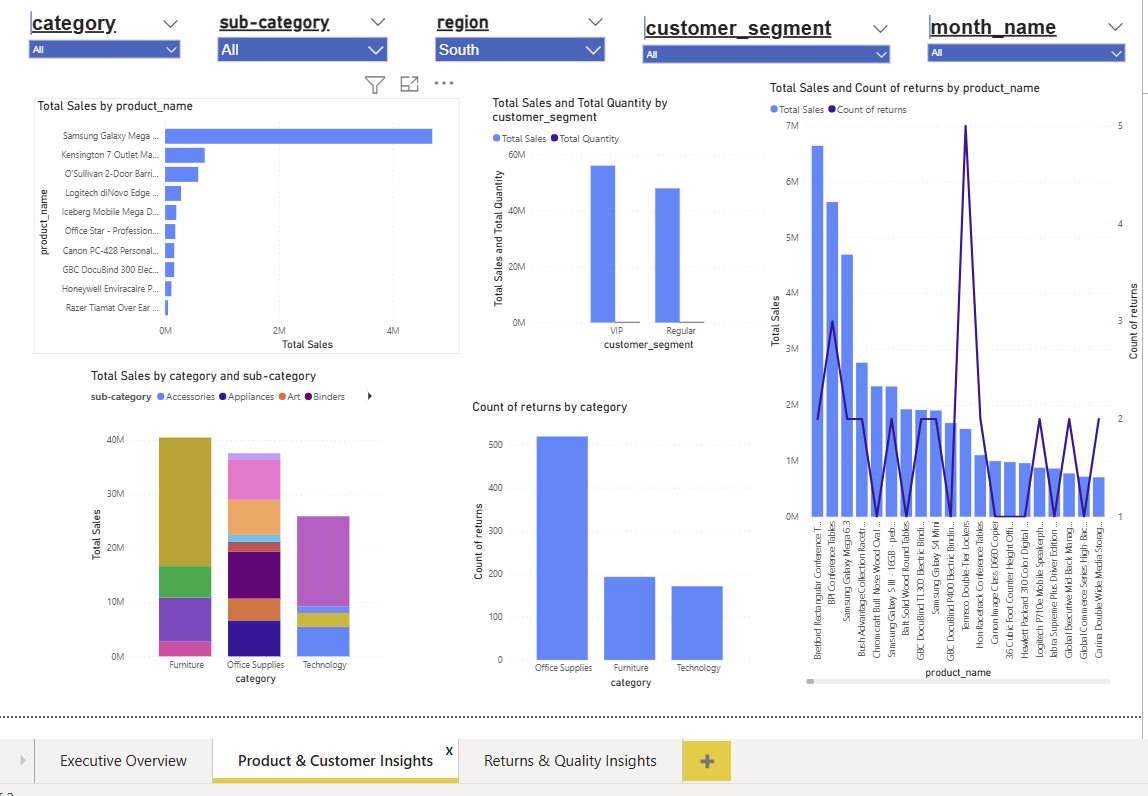

The dashboard page shown, as its layout file describes it:
{"tool":"powerbi","page":{"name":"Product & Customer Insights","canvas":[1600,1000],"ordinal":1},"visuals":[{"type":"slicer","fields":{"Values":["sales_clean.category"]},"box":[50.1,20.7,229.8,79.5],"z":0},{"type":"slicer","fields":{"Values":["sales_clean.sub-category"]},"box":[311,20.7,255.7,79.5],"z":1000},{"type":"slicer","fields":{"Values":["sales_clean.region"]},"box":[611.7,20.7,255.7,79.5],"z":2000},{"type":"slicer","fields":{"Values":["sales_clean.customer_segment"]},"box":[898.5,27.6,362.9,84.7],"z":3000},{"type":"slicer","fields":{"Values":["sales_clean.month_name"]},"box":[1292.4,25.9,293.7,95],"z":4000},{"type":"clusteredBarChart","fields":{"Category":["sales_clean.product_name"],"Y":["sales_clean.Total Sales"]},"box":[67.4,145.1,589.2,354.2],"z":5000},{"type":"clusteredColumnChart","fields":{"Category":["sales_clean.customer_segment"],"Y":["sales_clean.Total Sales","sales_clean.Total Quantity"]},"box":[696.3,141.7,387,357.7],"z":6000},{"type":"columnChart","fields":{"Category":["sales_clean.category"],"Series":["sales_clean.sub-category"],"Y":["sales_clean.Total Sales"]},"box":[141.7,518.4,409.5,442.3],"z":7000},{"type":"columnChart","fields":{"Category":["sales_clean.category"],"Y":["CountNonNull(sales_clean.returns)"]},"box":[668.7,561.6,397.4,404.3],"z":8000},{"type":"lineClusteredColumnComboChart","fields":{"Category":["sales_clean.product_name"],"Y":["sales_clean.Total Sales"],"Y2":["CountNonNull(sales_clean.returns)"]},"box":[1079.9,121,520.1,839.7],"z":9000}]}

Visuals, with their boxes on the page's 1600x1000 design canvas (x1, y1, x2, y2). These are canvas units, not pixel positions in the 1148x796 screenshot, which may show the page scaled, cropped or inside an application window:
slicer - sales_clean.category: 50:21:280:100
slicer - sales_clean.sub-category: 311:21:567:100
slicer - sales_clean.region: 612:21:867:100
slicer - sales_clean.customer_segment: 898:28:1261:112
slicer - sales_clean.month_name: 1292:26:1586:121
clusteredBarChart - sales_clean.product_name x sales_clean.Total Sales: 67:145:657:499
clusteredColumnChart - sales_clean.customer_segment x sales_clean.Total Sales: 696:142:1083:499
columnChart - sales_clean.category x sales_clean.sub-category: 142:518:551:961
columnChart - sales_clean.category x CountNonNull(sales_clean.returns): 669:562:1066:966
lineClusteredColumnComboChart - sales_clean.product_name x sales_clean.Total Sales: 1080:121:1600:961
